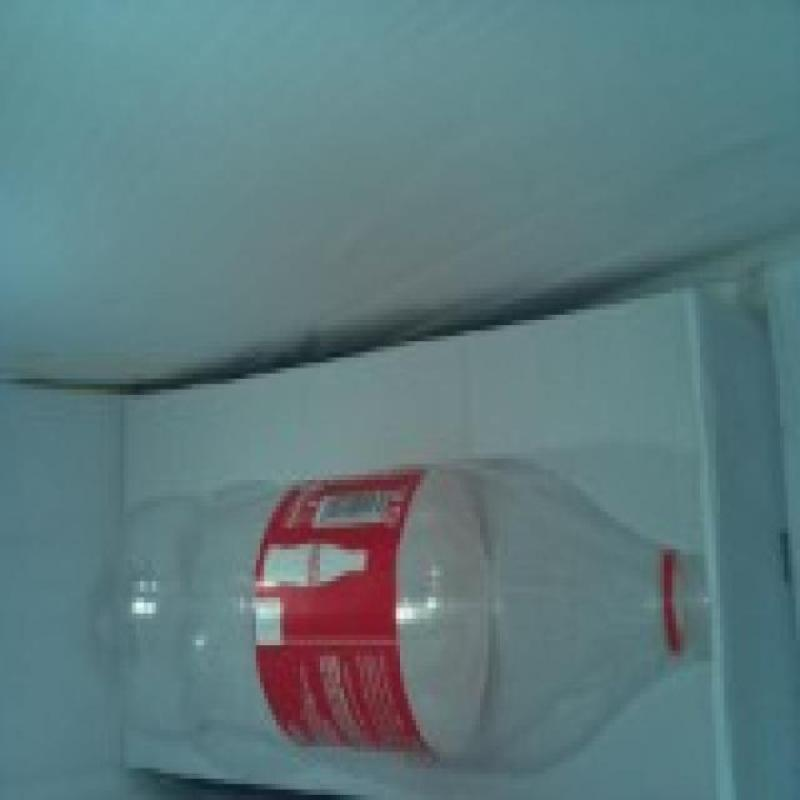botella: (112, 457, 712, 775)
